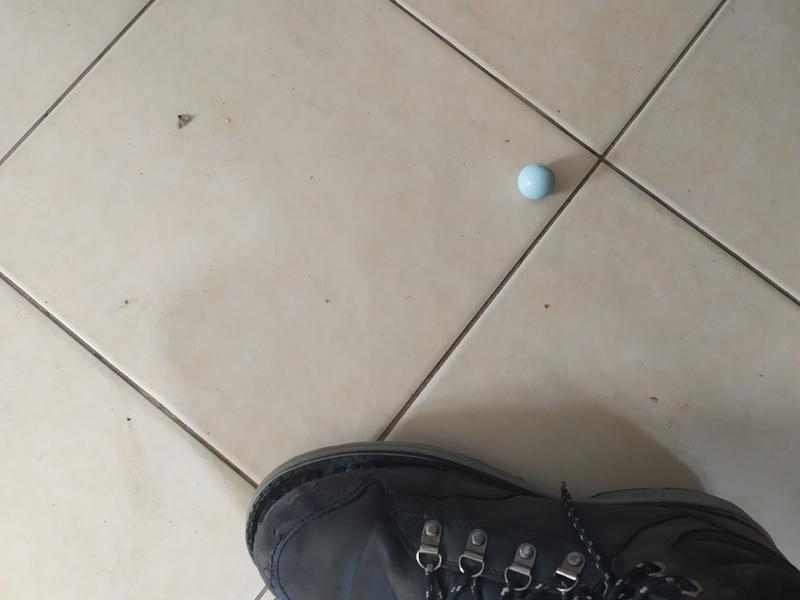Warning: (515, 161, 557, 203)
